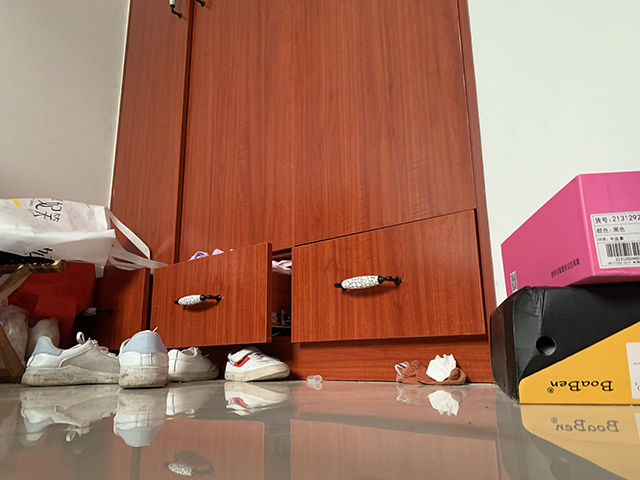cabinet: (95, 1, 500, 386)
